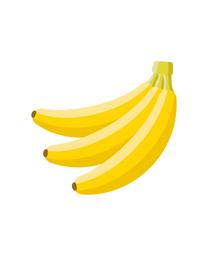banana: (31, 58, 176, 194)
